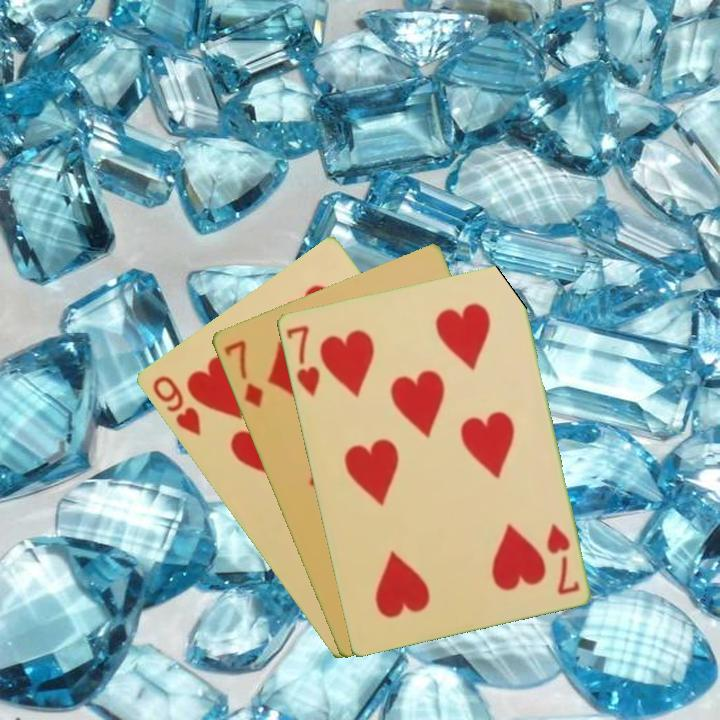7d: (219, 336, 266, 410)
7h: (282, 321, 323, 399), (542, 519, 582, 598)
9h: (148, 372, 204, 439)
